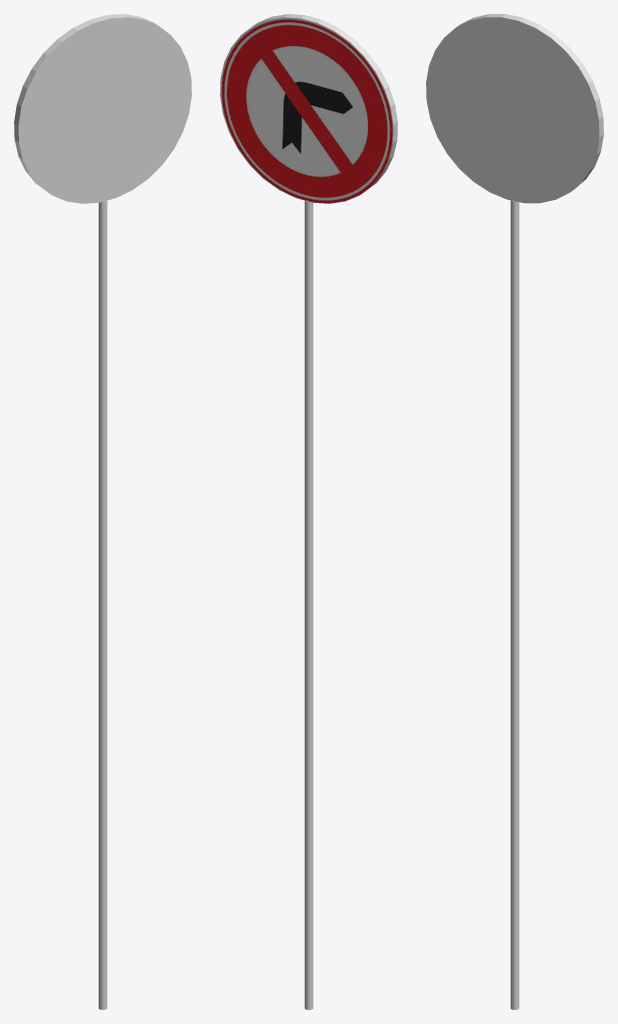
Rendered from sagyok.dae.
3 views of the same model, side by side, from view 1: azimuth 30°, elevation 25°; view 2: azimuth 150°, elevation 25°; view 3: azimuth 330°, elevation 25° (orthographic).
Visible parts, largest first — view 1: Cylinder_001, Cylinder; view 2: Cylinder_001, Cylinder; view 3: Cylinder_001, Cylinder.
Boxes of the visible parts, x1,y1,x2,y2 form: Cylinder_001: [14, 14, 191, 203]; Cylinder: [98, 200, 107, 1009]; Cylinder_001: [220, 14, 397, 203]; Cylinder: [304, 200, 313, 1009]; Cylinder_001: [426, 14, 603, 203]; Cylinder: [510, 200, 519, 1009].
Bounding box in the file's own units: 0.4489 × 0.02 × 2.45.
1 material, 1 textured.
